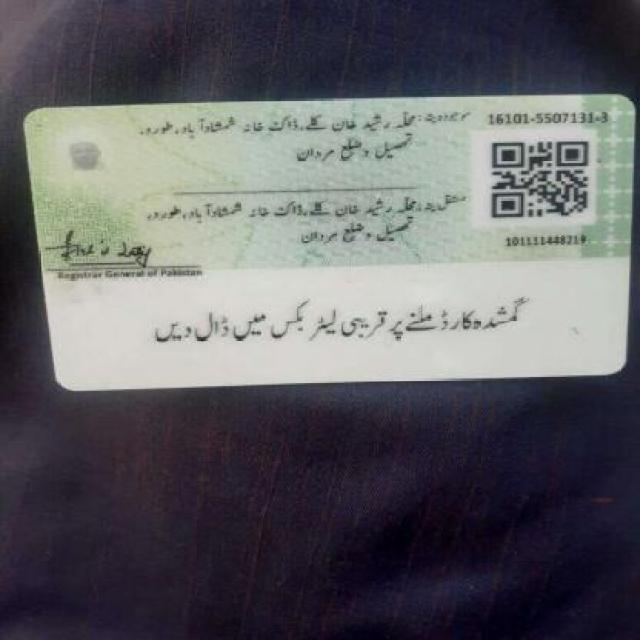Back: (28, 88, 632, 389)
